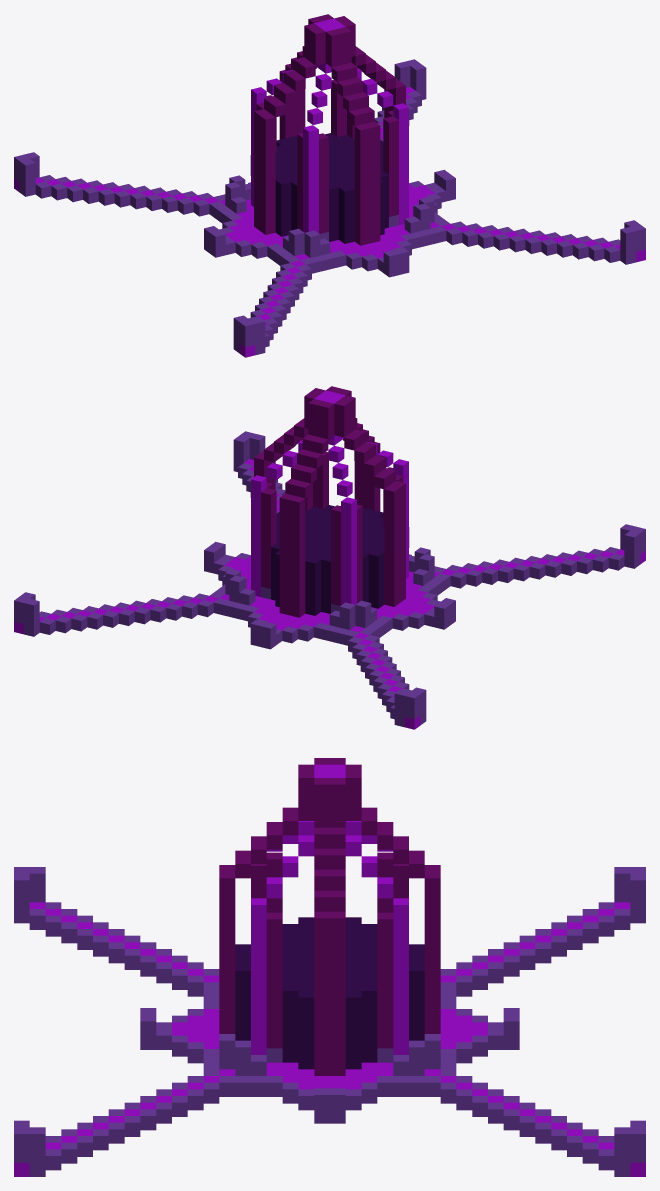
File: Plasma_Standard_Base.obj
3 views of the same model, one above another, from view 1: azimuth 30°, elevation 25°; view 2: azimuth 150°, elevation 25°; view 3: azimuth 270°, elevation 25° (orthographic). The views are drawn at different scales.
Visible parts, largest first — view 1: Plasma_Standard_Base; view 2: Plasma_Standard_Base; view 3: Plasma_Standard_Base.
Boxes of the visible parts, box(x1,y1,x2,y2) form: Plasma_Standard_Base: box(14, 14, 645, 357); Plasma_Standard_Base: box(14, 386, 645, 729); Plasma_Standard_Base: box(14, 758, 645, 1176).
Size of the model in its own units: 40 by 19 by 40.
1 material, 1 textured.
